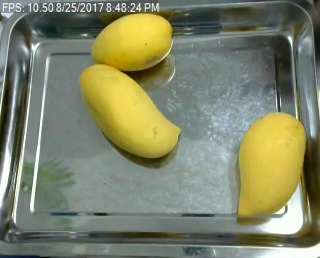Mango: (76, 64, 186, 166), (232, 110, 308, 218), (91, 11, 179, 71)
